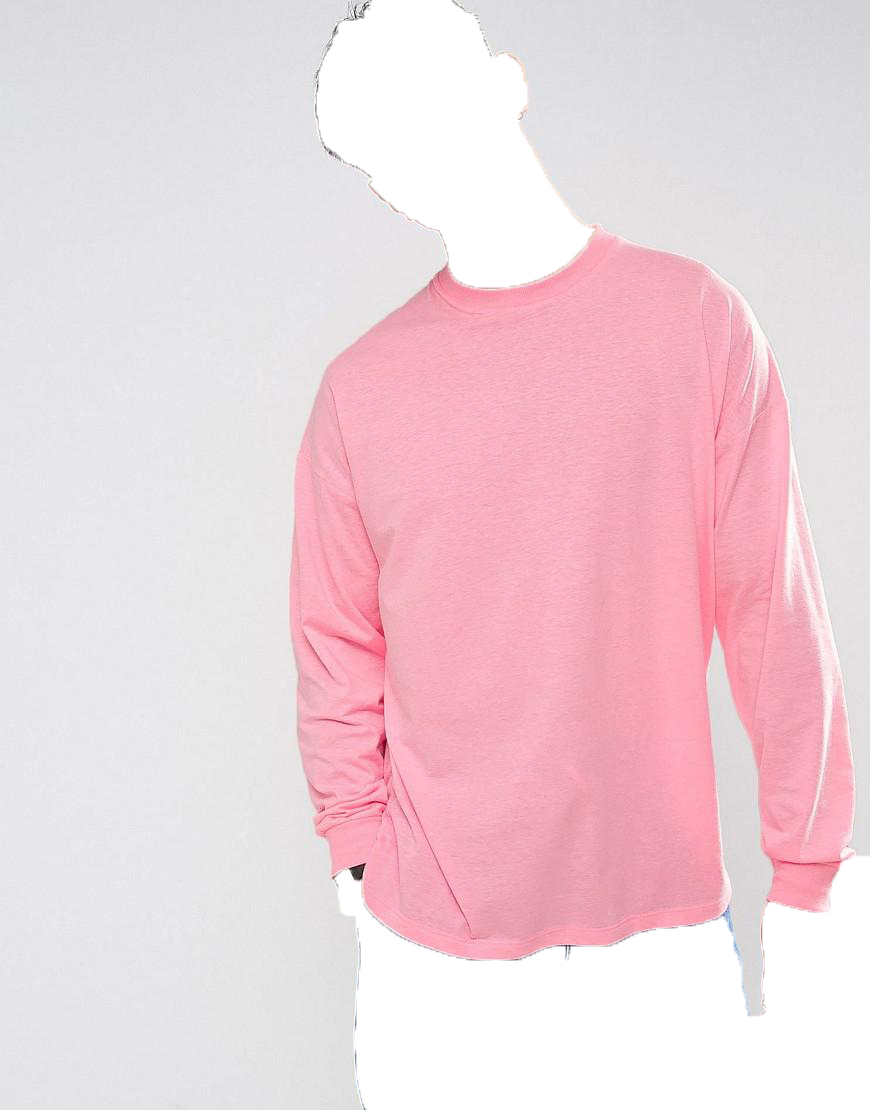teeshirt: (283, 229, 857, 957)
